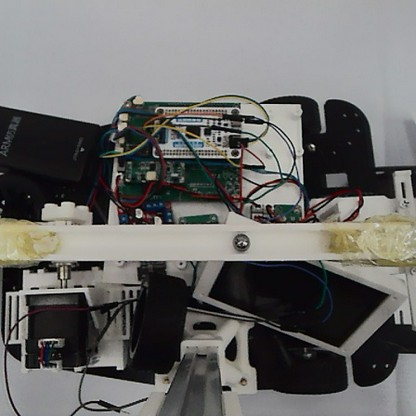ironball: (229, 230, 253, 254)
